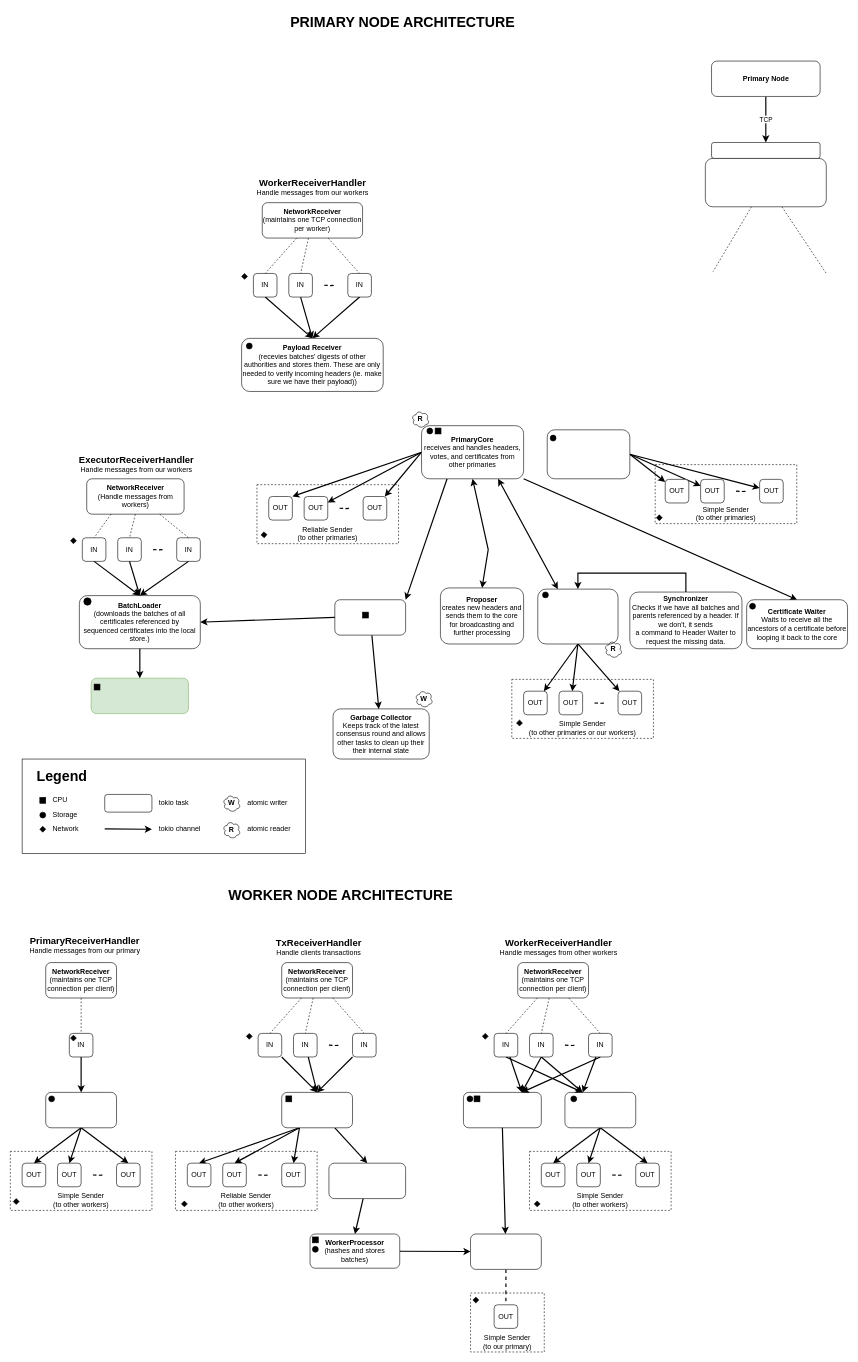
This 858x1362 diagram has some shape labels left out. The shapes that lost their labels are listed below. From the top down, each one's centre as x and y in pixels, then its label:
the point at 765,150: NetworkReceiver
the point at 765,182: PrimaryReceiverHandler Handle messages from other primaries
the point at 588,454: Helper replies to certificate requests from other primaries
the point at 370,617: Consensus (orders certificates)
the point at 577,616: Header Waiter Waits for missing parent certificates and batches' digests
the point at 140,696: ExecutorCore (Executes batches of transactions)
the point at 81,1110: Synchronizer (requests missing batches)
the point at 317,1110: Batch Maker (assembles txs into batches)
the point at 502,1110: Processor (hashes and stores batches)
the point at 600,1110: Helper (replies to batch requests)
the point at 367,1181: QuorumWaiter (waits for a quorum to acks our batch)
the point at 505,1251: PrimaryConnector (sends batch digests to our primary)
